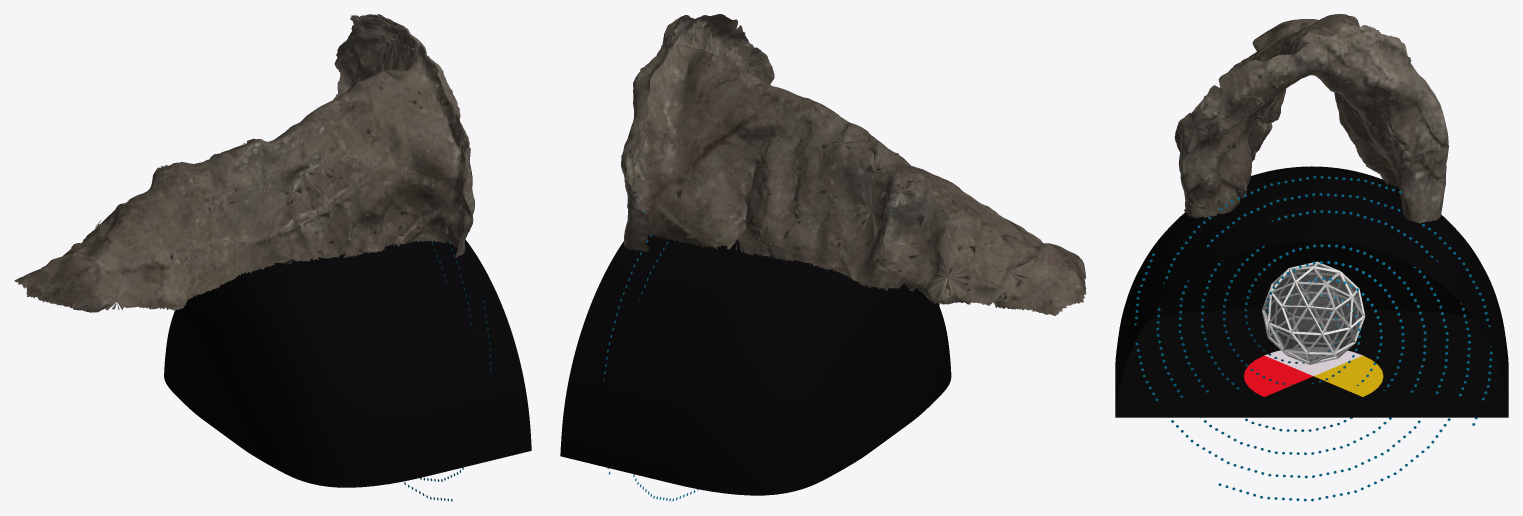
File: mine.glb
3 views of the same model, side by side, from view 1: azimuth 30°, elevation 25°; view 2: azimuth 150°, elevation 25°; view 3: azimuth 270°, elevation 25° (orthographic). The views are drawn at different scales.
Visible parts, largest first — view 1: skylodge, Rocky Cave; view 2: skylodge, Rocky Cave; view 3: skylodge, Rocky Cave, Circle.001, Icosphere.004, neutrino, Icosphere.003, Icosphere.002.
Part boxes in pixels (x1,y1,x2,y2): skylodge: (164, 239, 531, 487); Rocky Cave: (14, 14, 474, 312); skylodge: (560, 235, 951, 495); Rocky Cave: (621, 14, 1086, 315); skylodge: (1115, 166, 1508, 417); Rocky Cave: (1174, 14, 1448, 223); Circle.001: (1244, 347, 1383, 405); Icosphere.004: (1262, 261, 1365, 334); neutrino: (1134, 176, 1492, 501); Icosphere.003: (1265, 293, 1361, 361); Icosphere.002: (1262, 293, 1365, 364).
Size of the model in its own units: 3.82 by 4.15 by 3.12.
4 materials, 4 textured.
